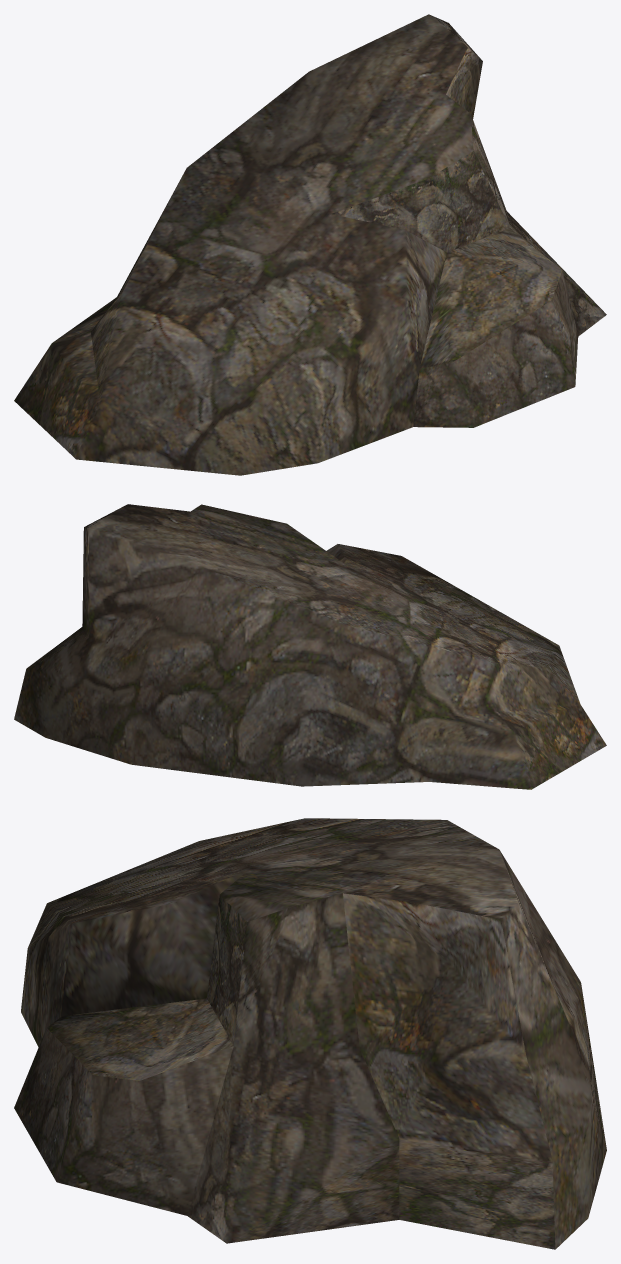
Rendered from Rock09.FBX.
3 views of the same model, one above another, from view 1: azimuth 30°, elevation 25°; view 2: azimuth 150°, elevation 25°; view 3: azimuth 270°, elevation 25° (orthographic). The views are drawn at different scales.
Visible parts, largest first — view 1: Rock09; view 2: Rock09; view 3: Rock09.
Boxes of the visible parts, x1,y1,x2,y2 form: Rock09: (14,14,606,475); Rock09: (14,504,606,789); Rock09: (14,818,606,1249).
Bounding box in the file's own units: 331 × 133 × 238.
